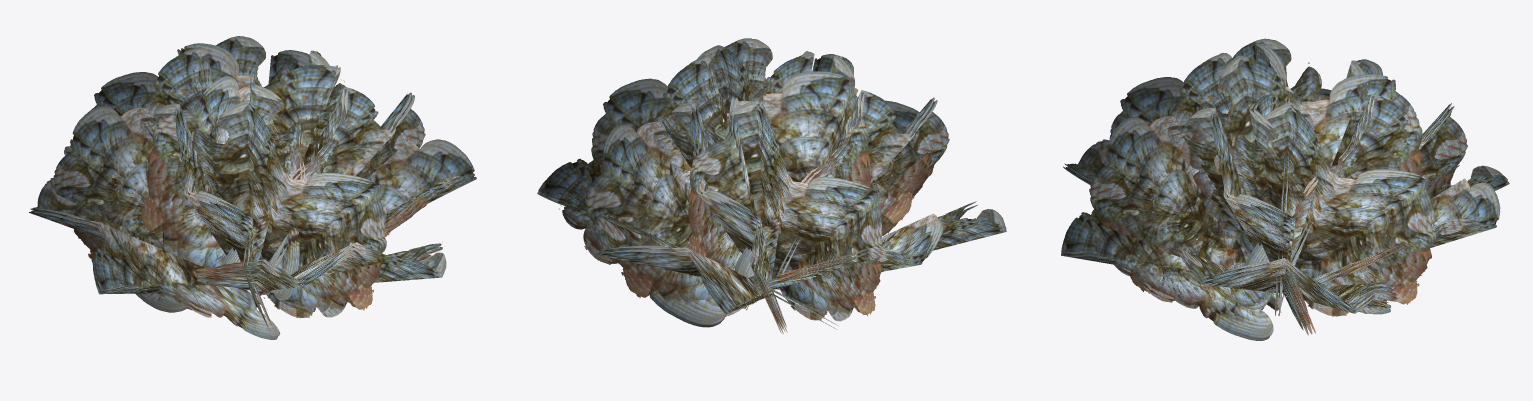
File: RippleSponge_LOD1.fbx
3 views of the same model, side by side, from view 1: azimuth 30°, elevation 25°; view 2: azimuth 150°, elevation 25°; view 3: azimuth 270°, elevation 25° (orthographic).
Visible parts, largest first — view 1: RippleSponge_medium; view 2: RippleSponge_medium; view 3: RippleSponge_medium.
Boxes of the visible parts, x1=… form: RippleSponge_medium: x1=29, y1=36, x2=476, y2=339; RippleSponge_medium: x1=537, y1=38, x2=1006, y2=333; RippleSponge_medium: x1=1061, y1=38, x2=1509, y2=340.
Size of the model in its own units: 45.59 by 31.18 by 45.12.
